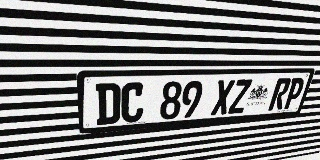8: (159, 81, 184, 120)
9: (179, 81, 204, 118)
C: (121, 82, 145, 123)
D: (95, 83, 121, 125)
P: (282, 78, 306, 109)
R: (268, 78, 292, 111)
X: (210, 80, 235, 115)
Z: (228, 79, 252, 114)
